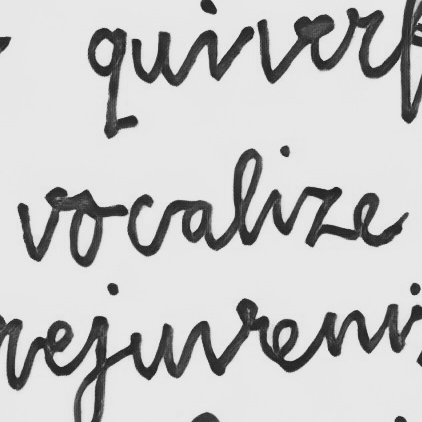a: (177, 197, 218, 248)
c: (125, 192, 160, 258)
e: (351, 188, 399, 249)
i: (269, 143, 295, 237)
l: (230, 147, 265, 249)
o: (66, 201, 107, 268)
v: (16, 189, 62, 265)
z: (300, 183, 347, 250)
